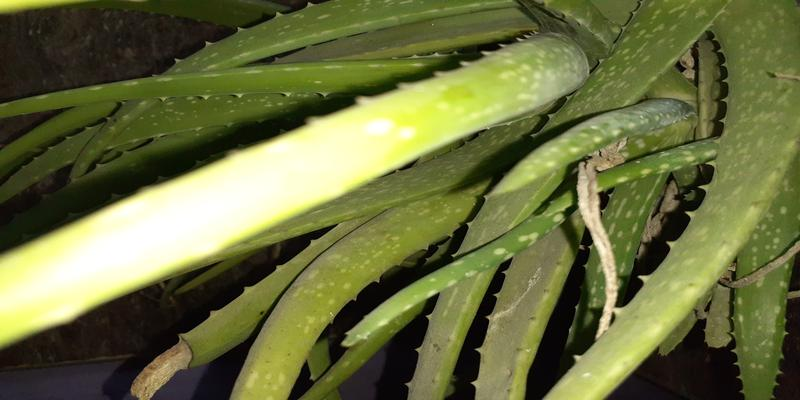Aloevera: (230, 16, 797, 371)
